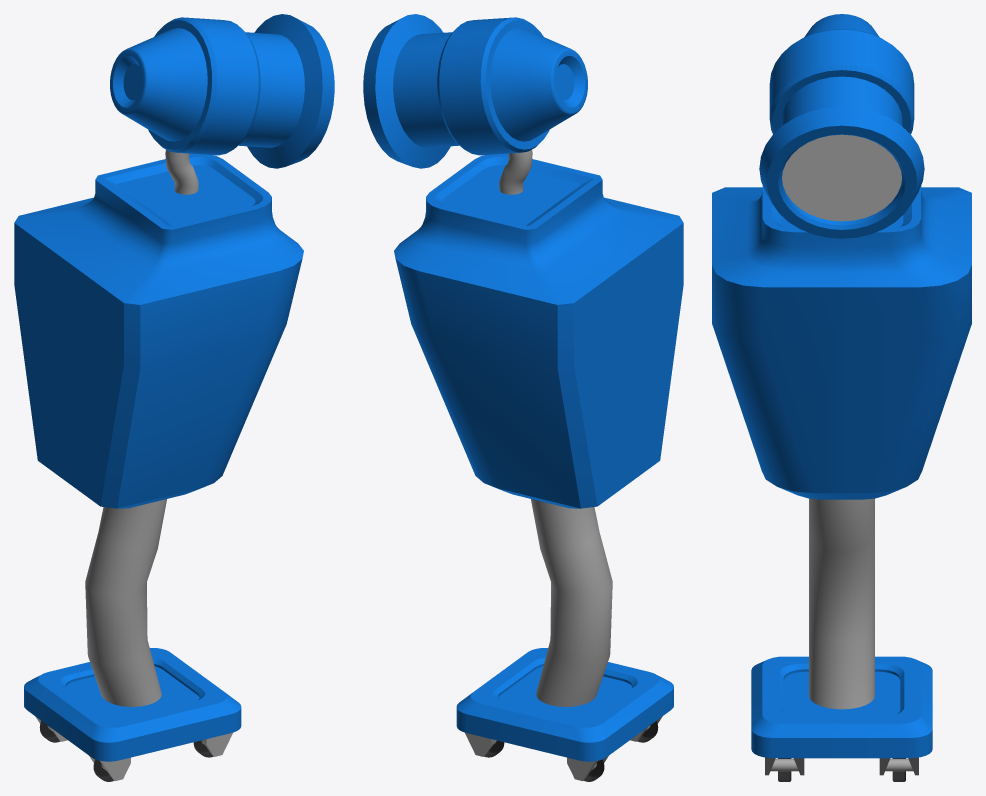
The model's file is Nurse.fbx.
The picture shows the model from 3 angles, left to right: view 1: azimuth 30°, elevation 25°; view 2: azimuth 150°, elevation 25°; view 3: azimuth 270°, elevation 25°; orthographic projection. The views are drawn at different scales.
Parts seen in each view (by area): view 1: Cube, Cylinder.002, Cube.001, Cylinder, Cylinder.001, Cube.002, Cylinder.003; view 2: Cube, Cylinder.002, Cube.001, Cylinder, Cylinder.001, Cube.002, Cylinder.003; view 3: Cube, Cylinder.002, Cube.001, Cylinder, Cylinder.004, Cube.002.
Part boxes in pixels (x1,y1,x2,y2): Cube: (14,153,303,508); Cylinder.002: (110,14,334,168); Cube.001: (24,648,241,761); Cylinder: (85,499,166,706); Cylinder.001: (165,150,198,194); Cube.002: (35,716,232,781); Cylinder.003: (39,721,213,781); Cube: (394,153,683,508); Cylinder.002: (363,14,587,168); Cube.001: (456,648,673,761); Cylinder: (531,499,612,706); Cylinder.001: (499,150,532,194); Cube.002: (465,716,662,781); Cylinder.003: (484,721,658,781); Cube: (712,186,971,499); Cylinder.002: (759,14,924,238); Cube.001: (751,656,932,758); Cylinder: (809,498,874,709); Cylinder.004: (770,759,913,771); Cube.002: (765,757,918,775).
Size of the model in its own units: 117 by 312 by 96.95.
